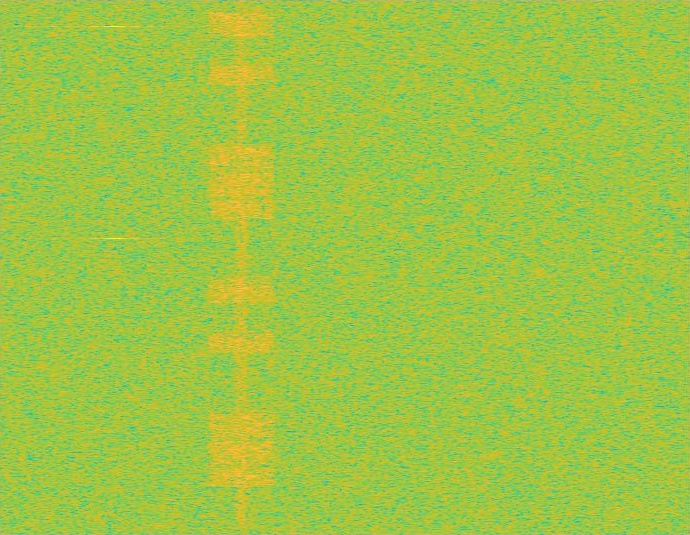DSSS: (234, 0, 249, 534)
LTE: (207, 0, 276, 534)
Radar: (108, 0, 122, 534)
